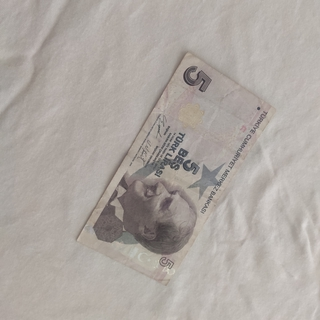5TLFront: (74, 52, 274, 285)
